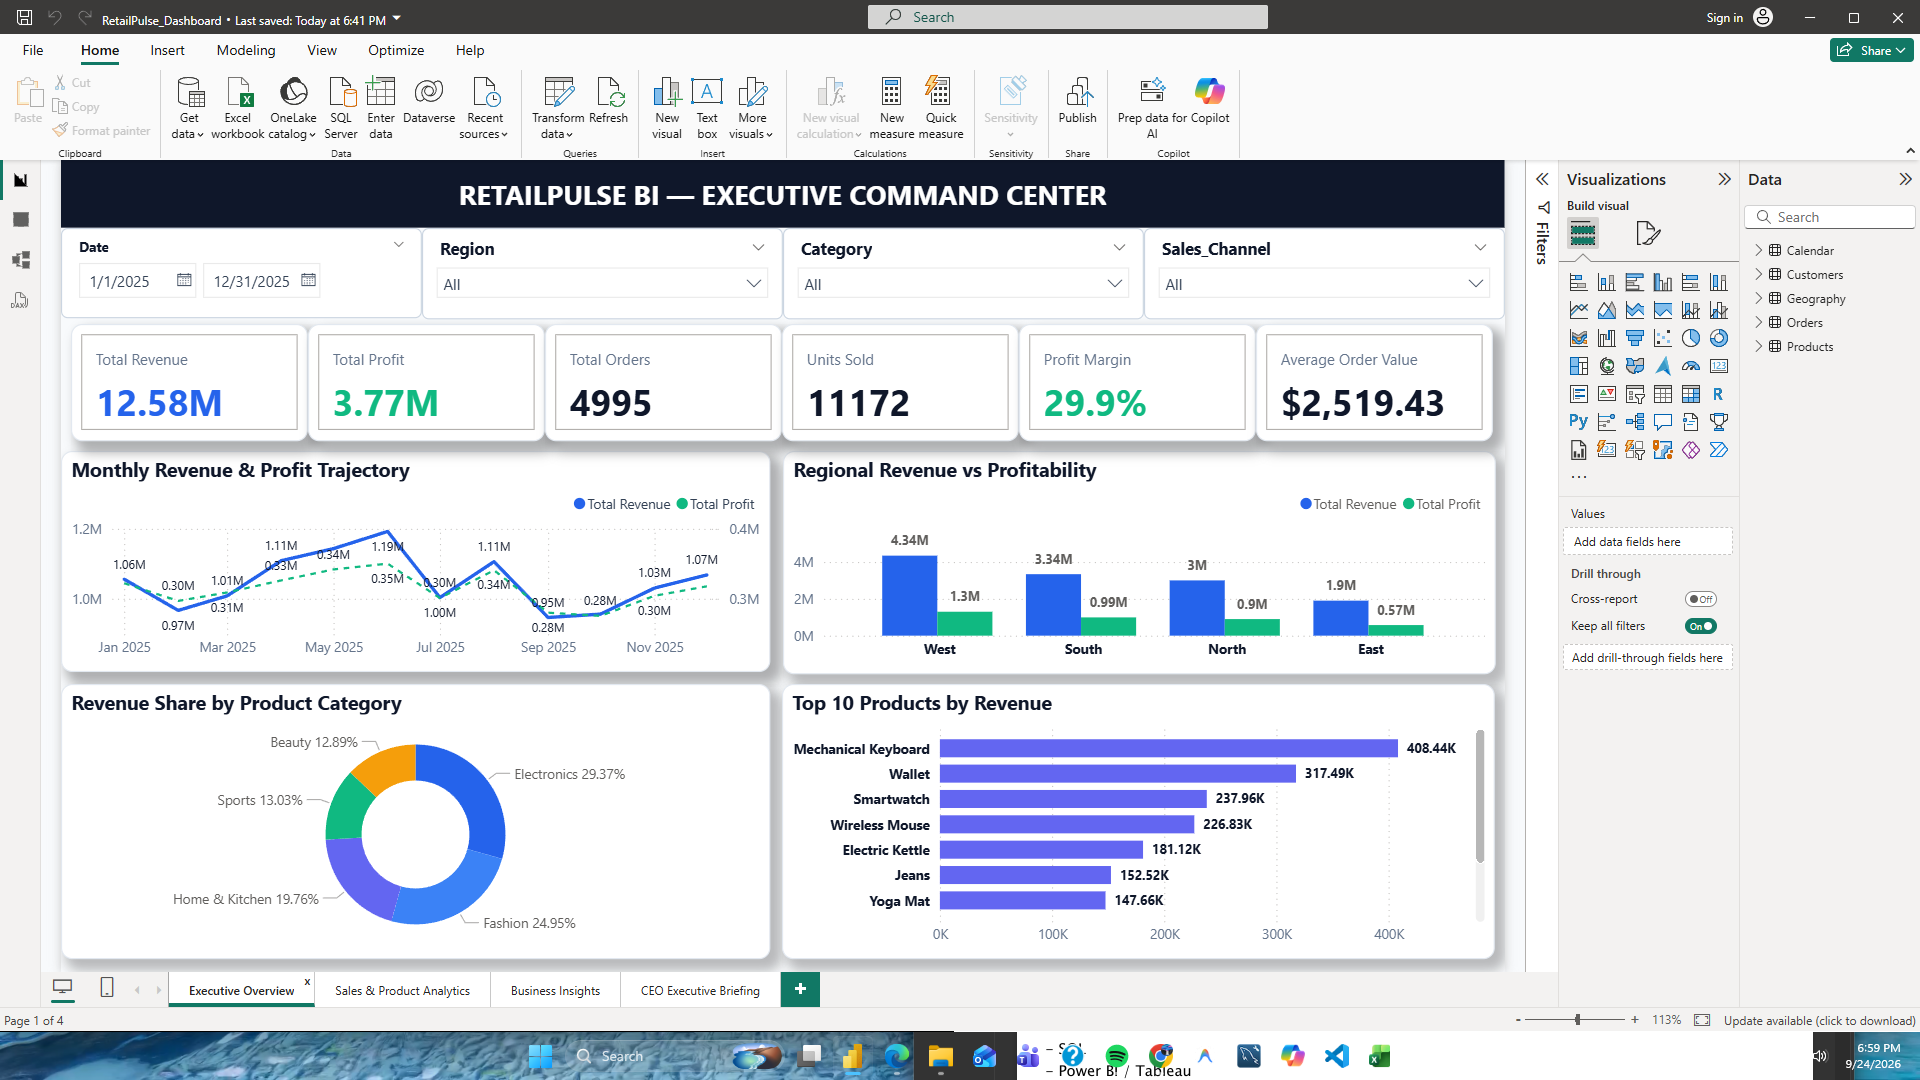

What the dashboard file says about the page in this screenshot:
{"tool":"powerbi","page":{"name":"Executive Overview","canvas":[1280,720],"ordinal":0},"visuals":[{"type":"slicer","fields":{"Values":["Calendar.Date"]},"box":[0,60.1,320,79.5],"z":0,"group":"g2"},{"type":"lineChart","title":"Monthly Revenue & Profit Trajectory","fields":{"Y":["Orders.Total Revenue"],"Y2":["Orders.Total Profit"],"Category":["Calendar.Year-Month.Variation.Date Hierarchy.Year","Calendar.Year-Month.Variation.Date Hierarchy.Month"]},"box":[0,258,628.7,196],"z":0},{"type":"slicer","fields":{"Values":["Geography.Region"]},"box":[320,60.1,320,81.5],"z":1000,"group":"g2"},{"type":"donutChart","title":"Revenue Share by Product Category","fields":{"Category":["Products.Category"],"Y":["Orders.Total Revenue"]},"box":[0,464.6,628.7,243.8],"z":1000},{"type":"slicer","fields":{"Values":["Products.Category"]},"box":[640,60.1,320,81.5],"z":2000,"group":"g2"},{"type":"clusteredColumnChart","title":"Regional Revenue vs Profitability","fields":{"Category":["Geography.Region"],"Y":["Orders.Total Revenue","Orders.Total Profit"]},"box":[640.2,258,632.2,197.7],"z":2000},{"type":"slicer","fields":{"Values":["Orders.Sales_Channel"]},"box":[960,60.1,320,81.5],"z":3000,"group":"g2"},{"type":"clusteredBarChart","title":"Top 10 Products by Revenue","fields":{"Category":["Products.Product_Name"],"Y":["Orders.Total Profit"]},"box":[639.3,464.6,632.2,243.8],"z":3000},{"type":"shape","box":[0,0,1280,60],"z":4000},{"type":"cardVisual","fields":{"Data":["Orders.Total Revenue"]},"box":[9,145,210.1,103.7],"z":4000,"group":"g1"},{"type":"group","id":"g1","title":"Group 1","box":[9,145,1261.1,103.7],"z":5000},{"type":"cardVisual","fields":{"Data":["Orders.Total Profit"]},"box":[219,145,210.1,103.7],"z":5000,"group":"g1"},{"type":"group","id":"g2","title":"Group 2","box":[0,60.1,1280,81.5],"z":6000},{"type":"cardVisual","fields":{"Data":["Orders.Total Orders"]},"box":[429,145,210.1,103.7],"z":6000,"group":"g1"},{"type":"cardVisual","fields":{"Data":["Orders.Units Sold"]},"box":[639,145,210.1,103.7],"z":7000,"group":"g1"},{"type":"cardVisual","fields":{"Data":["Orders.Profit Margin"]},"box":[850,145,210.1,103.7],"z":8000,"group":"g1"},{"type":"cardVisual","fields":{"Data":["Orders.Average Order Value"]},"box":[1060,145,210.1,103.7],"z":9000,"group":"g1"}]}

Visuals, with their boxes on the page's 1280x720 design canvas (x1, y1, x2, y2). These are canvas units, not pixel positions in the 1920x1080 screenshot, which may show the page scaled, cropped or inside an application window:
slicer - Calendar.Date: <region>0, 60, 320, 140</region>
"Monthly Revenue & Profit Trajectory" lineChart: <region>0, 258, 629, 454</region>
slicer - Geography.Region: <region>320, 60, 640, 142</region>
"Revenue Share by Product Category" donutChart: <region>0, 465, 629, 708</region>
slicer - Products.Category: <region>640, 60, 960, 142</region>
"Regional Revenue vs Profitability" clusteredColumnChart: <region>640, 258, 1272, 456</region>
slicer - Orders.Sales_Channel: <region>960, 60, 1280, 142</region>
"Top 10 Products by Revenue" clusteredBarChart: <region>639, 465, 1272, 708</region>
shape: <region>0, 0, 1280, 60</region>
cardVisual - Orders.Total Revenue: <region>9, 145, 219, 249</region>
"Group 1" group: <region>9, 145, 1270, 249</region>
cardVisual - Orders.Total Profit: <region>219, 145, 429, 249</region>
"Group 2" group: <region>0, 60, 1280, 142</region>
cardVisual - Orders.Total Orders: <region>429, 145, 639, 249</region>
cardVisual - Orders.Units Sold: <region>639, 145, 849, 249</region>
cardVisual - Orders.Profit Margin: <region>850, 145, 1060, 249</region>
cardVisual - Orders.Average Order Value: <region>1060, 145, 1270, 249</region>
